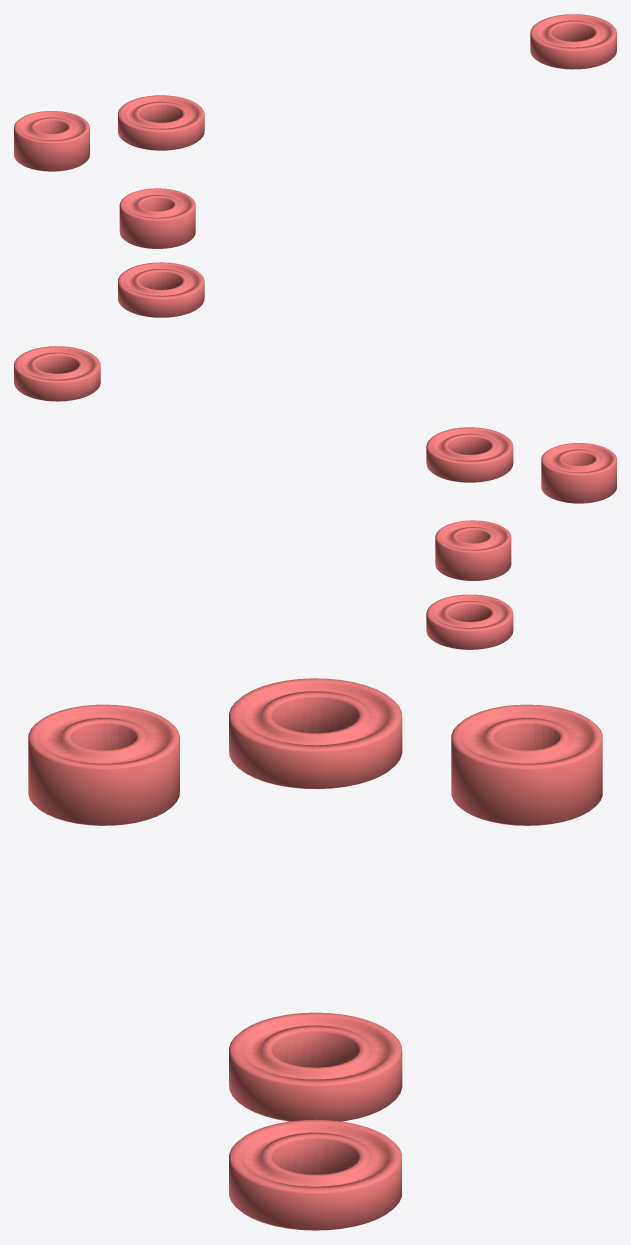
File: solo12_hip_fe_hl_19.obj
The picture shows the model from 3 angles, top to bottom: view 1: azimuth 30°, elevation 25°; view 2: azimuth 150°, elevation 25°; view 3: azimuth 270°, elevation 25°; orthographic projection. The views are drawn at different scales.
Bounding box in the file's own units: 0.0574 × 0.019 × 0.0265.
